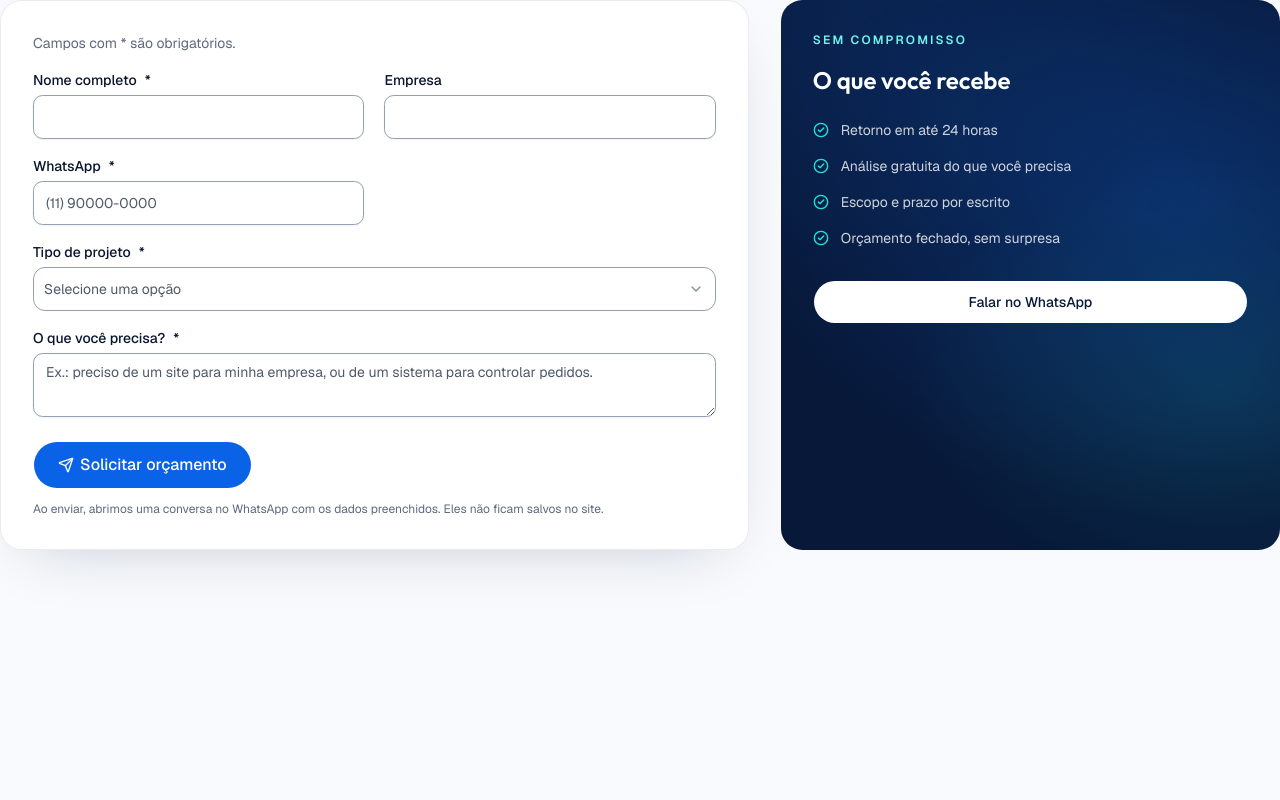
Test: ContactForm › abre o WhatsApp com a mensagem montada e mantém os dados preenchidos
The width and height of the screenshot is (1280, 800).
Type "Maria Silva" into the field labelled "Nome completo *".
click(199, 117); type("Maria Silva")  # box [33,95,364,139]
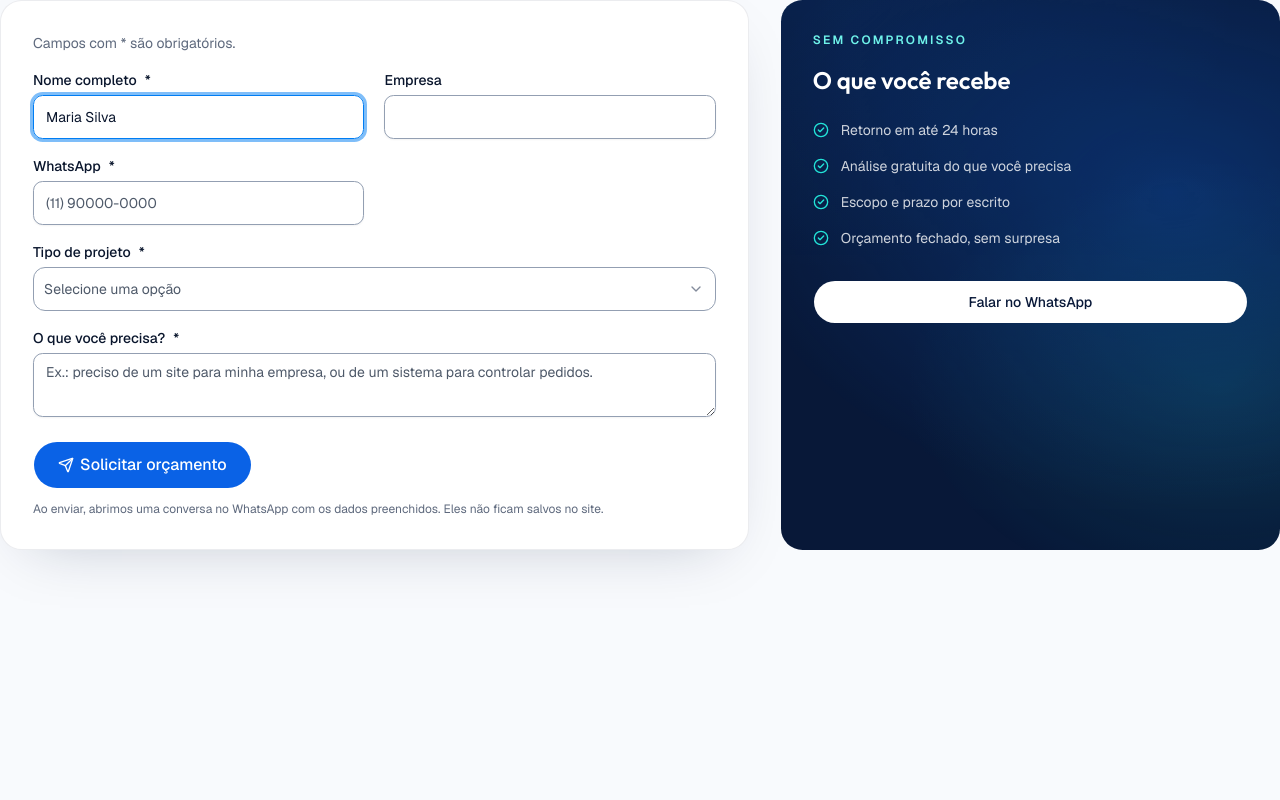
Type "Padaria Central" into the field labelled "Empresa".
click(550, 117); type("Padaria Central")  # box [384,95,716,139]
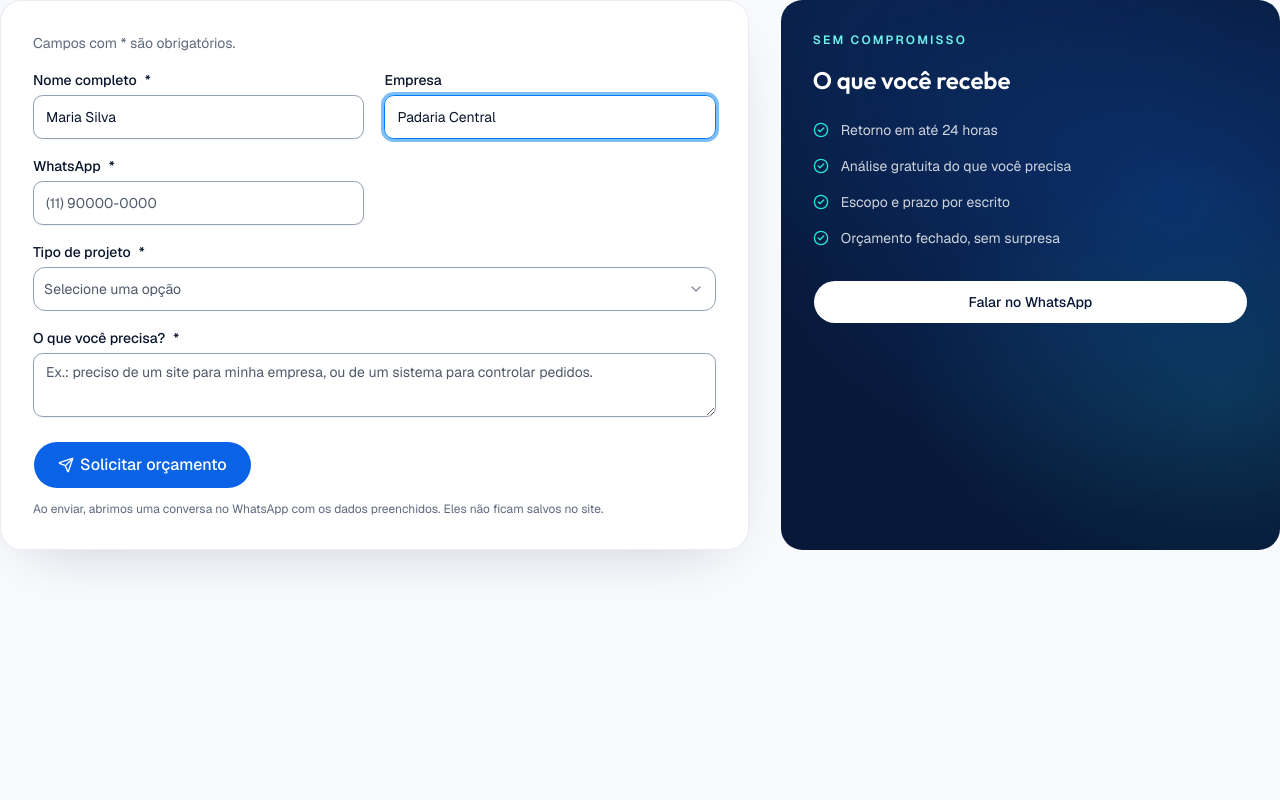
Type "(11) 98888-7777" into the field labelled "WhatsApp *".
click(199, 203); type("(11) 98888-7777")  # box [33,181,364,225]
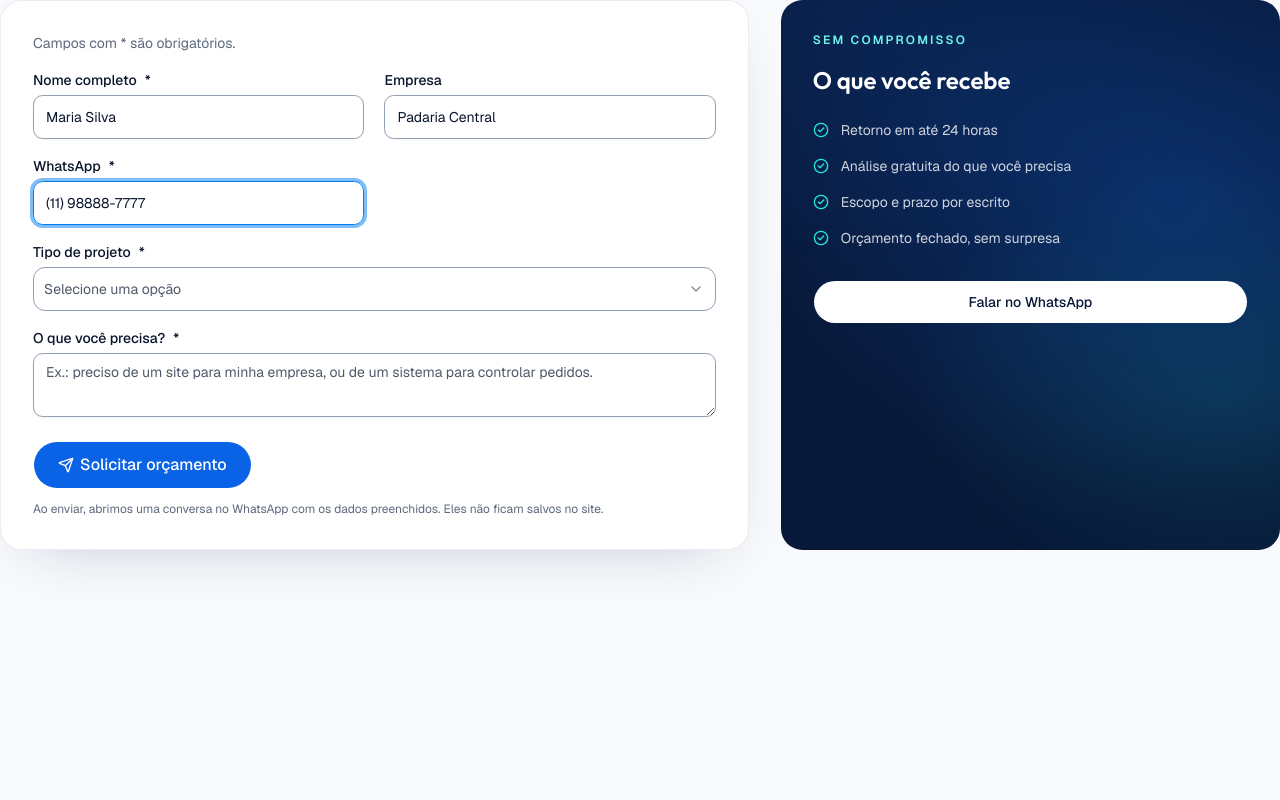
Select "Sistema web sob medida" in the dropdown labelled "Tipo de projeto *" at (374, 289), box [33,267,716,311]
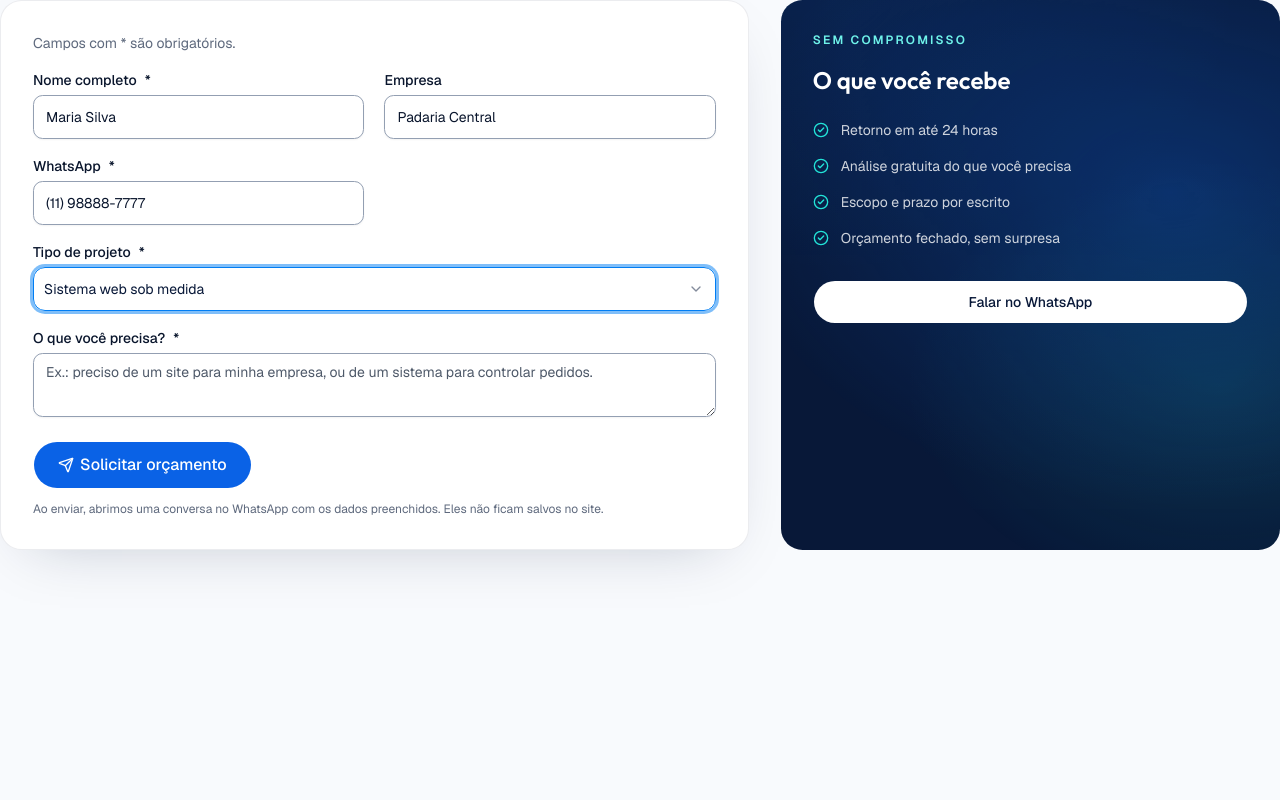
Type "Controle de pedidos" into the text box labelled "O que você precisa? *".
click(374, 385); type("Controle de pedidos")  # box [33,353,716,417]
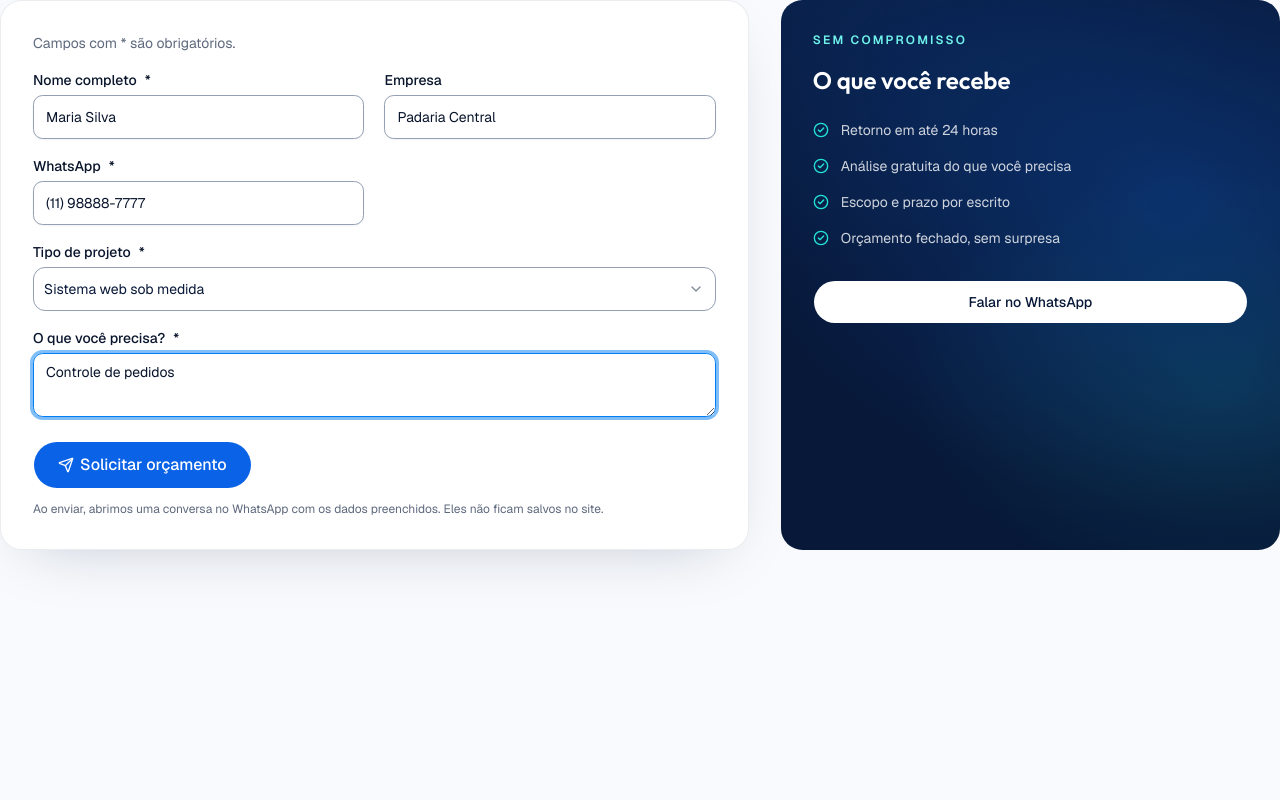
Click the button "Solicitar orçamento".
click(142, 465)  # box [33,441,252,489]
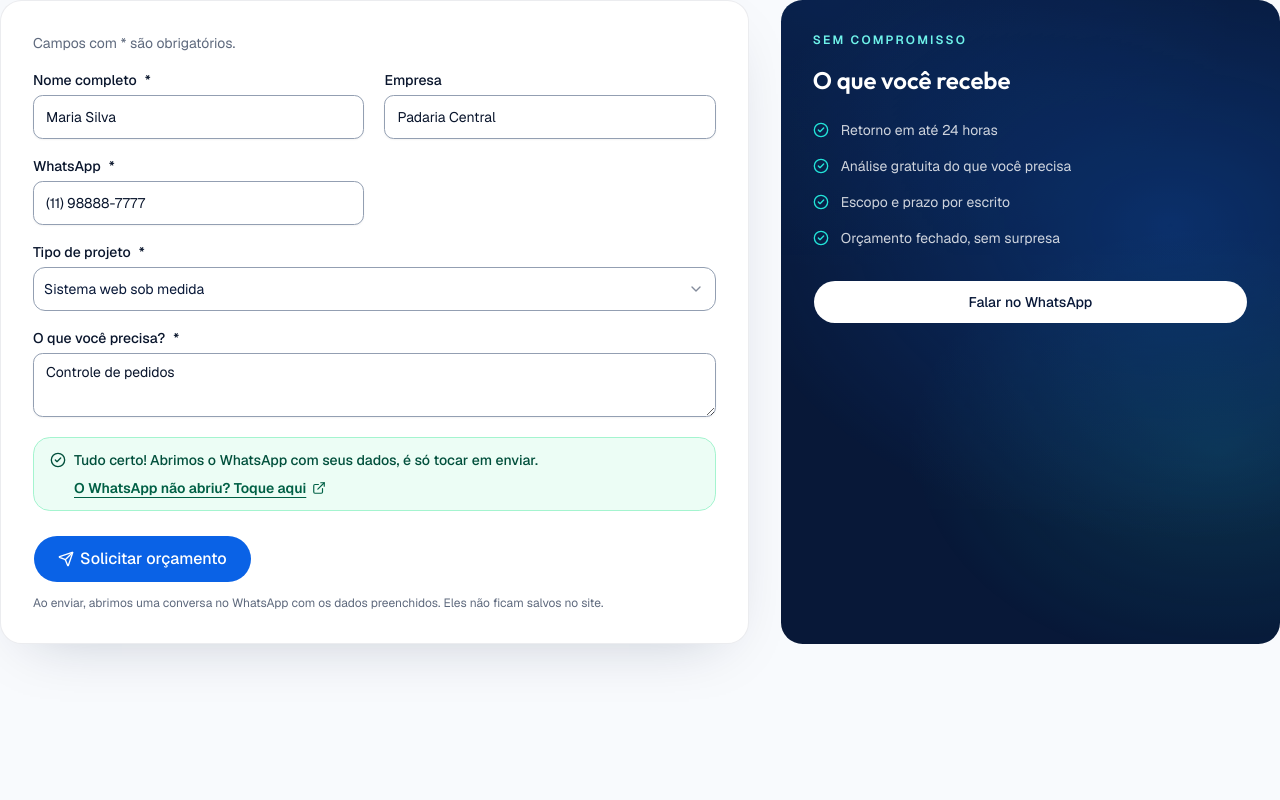
Check: the message shows "Abrimos o WhatsApp", box [74,451,538,469]
